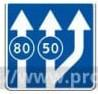road_sign: (3, 1, 98, 91)
